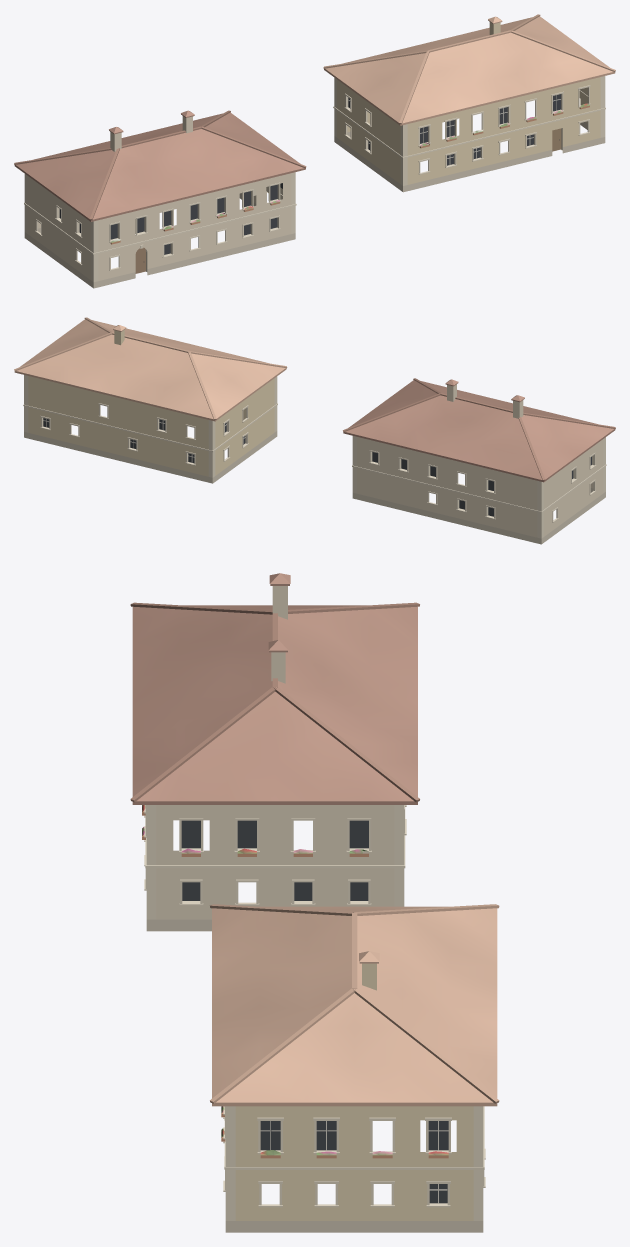
The model's file is SM_BM_BE_6_Villa.glb.
3 renders of one model, top to bottom at view 1: azimuth 30°, elevation 25°; view 2: azimuth 150°, elevation 25°; view 3: azimuth 270°, elevation 25°, orthographic. The views are drawn at different scales.
Parts seen in each view (by area): view 1: SM_BM_BE_6_Villa; view 2: SM_BM_BE_6_Villa; view 3: SM_BM_BE_6_Villa.
Boxes of the visible parts, <box> form: SM_BM_BE_6_Villa: <box>14,14,615,288</box>; SM_BM_BE_6_Villa: <box>14,317,615,544</box>; SM_BM_BE_6_Villa: <box>130,573,499,1232</box>.
Bounding box in the file's own units: 59.62 × 12.63 × 18.62.
